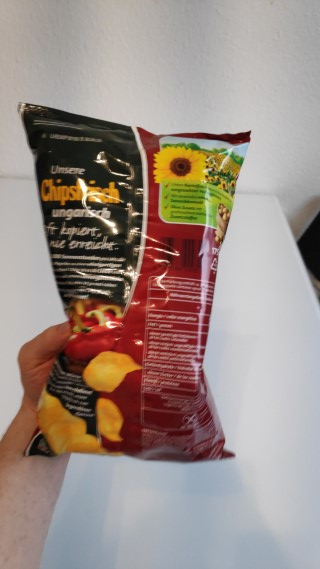chipsfrisch: (11, 100, 250, 463)
